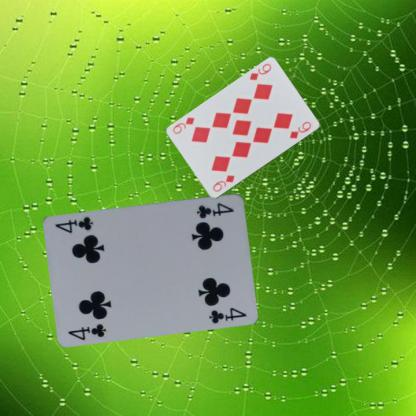4c: (66, 320, 107, 341), (194, 200, 236, 219)
9d: (210, 172, 236, 194), (246, 61, 272, 82)
